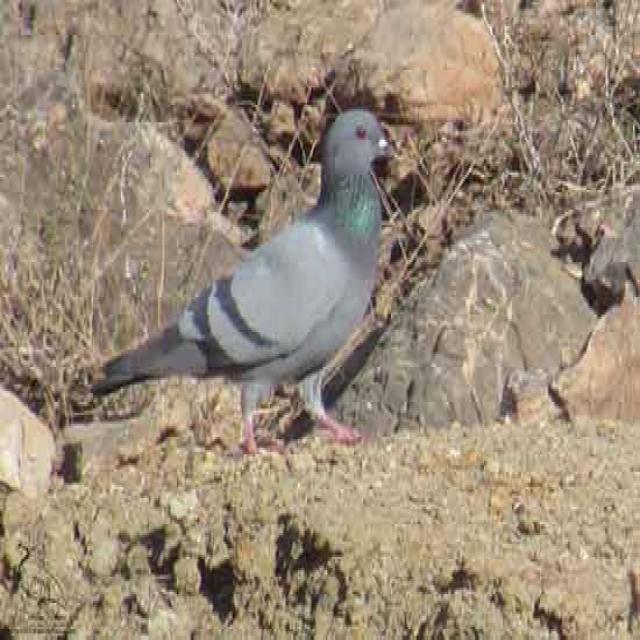bird: (90, 103, 398, 460)
